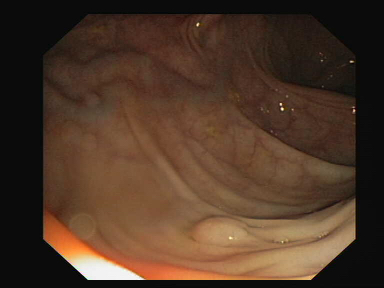polyp: (191, 212, 251, 250), (103, 79, 137, 107), (83, 88, 103, 109)
